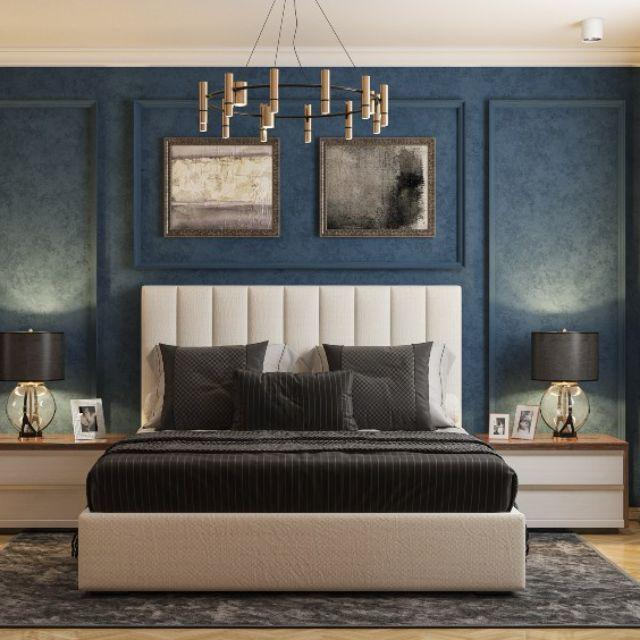bed: (78, 431, 521, 600)
lamp: (524, 323, 605, 440), (0, 323, 67, 446)
mirror: (320, 337, 461, 434), (161, 334, 263, 436), (231, 362, 356, 440)
